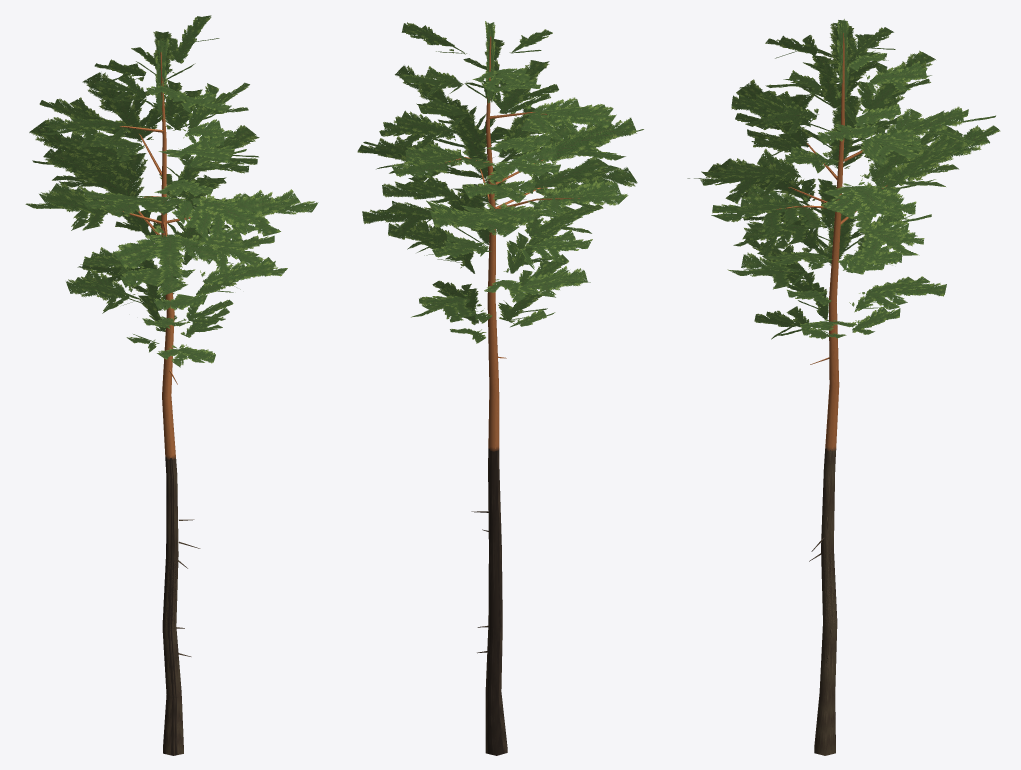
File: near.glb
3 renders of one model, left to right at view 1: azimuth 30°, elevation 25°; view 2: azimuth 150°, elevation 25°; view 3: azimuth 270°, elevation 25°, orthographic. The views are drawn at different scales.
Visible parts, largest first — view 1: pine_01; view 2: pine_01; view 3: pine_01.
Boxes of the visible parts, <box> form: pine_01: <box>25,15,318,755</box>; pine_01: <box>357,21,643,755</box>; pine_01: <box>687,19,1000,755</box>.
Bounding box in the file's own units: 6.44 × 17.7 × 7.26.
Materials: 2 (2 with a texture image).
